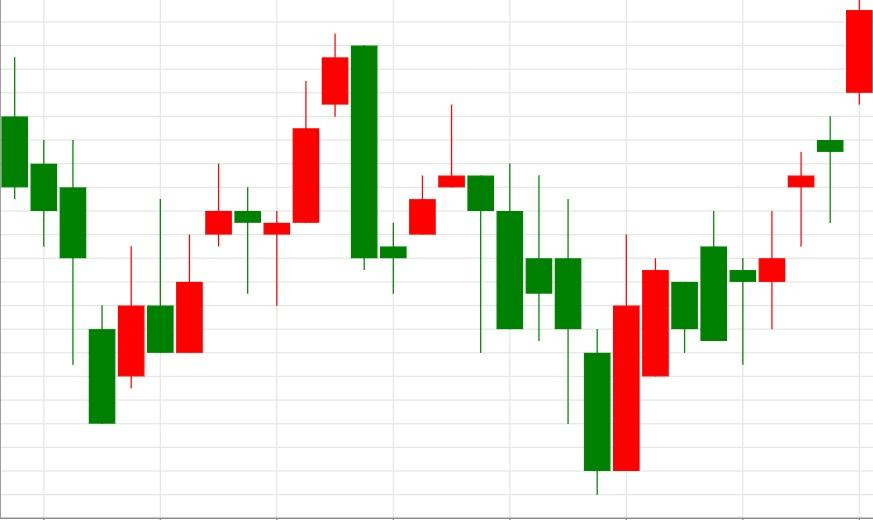shooting_star_fall: (88, 162, 233, 424)
